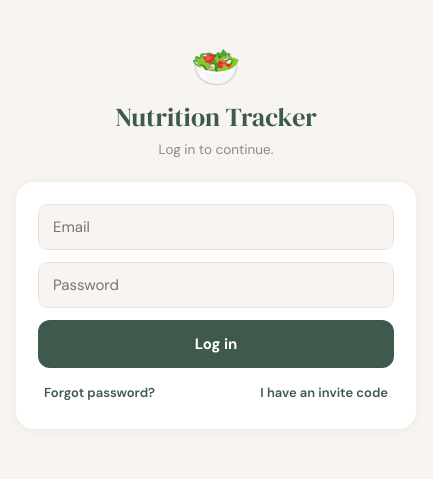
Test: logging in › says something useful when the server cannot be reached
Expected: the button "Log in" is shown, x1=38 y1=320 x2=394 y2=368
Step 1. Type "sam@example.com" into the field labelled "Email" → (216, 227), box x1=38 y1=204 x2=394 y2=250
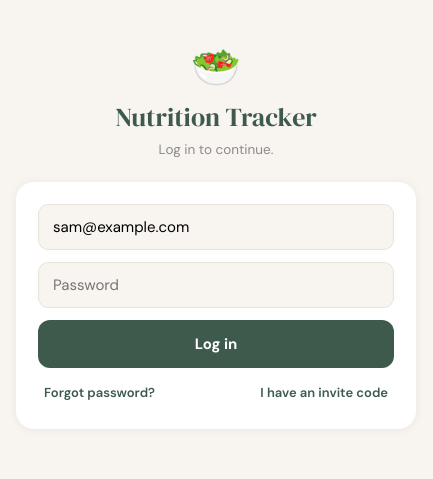
Step 2. Type "whatever" into the password field labelled "Password" → (216, 285), box x1=38 y1=262 x2=394 y2=308
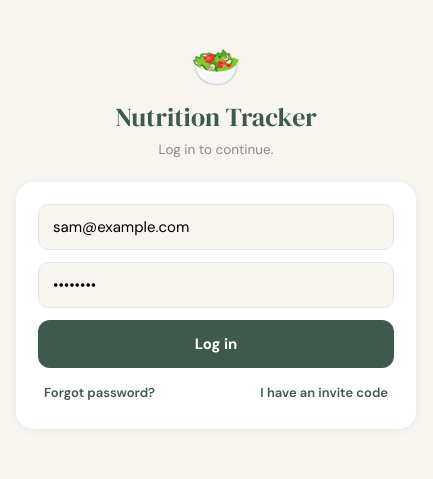
Step 3. Click the button "Log in" → (216, 344), box x1=38 y1=320 x2=394 y2=368
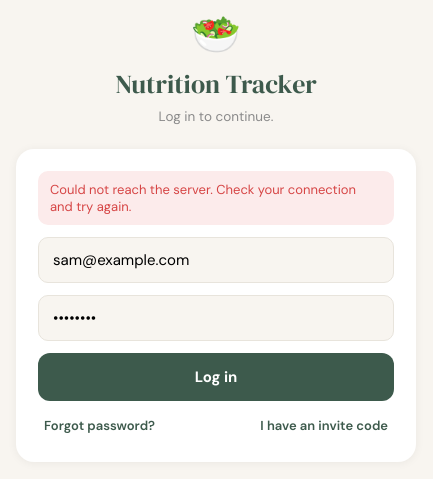
Result: the message shows "Could not reach the server" at x1=50 y1=181 x2=356 y2=215
